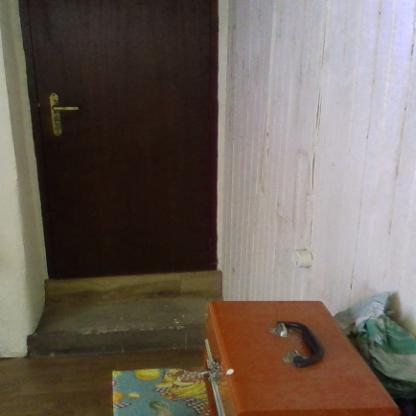door: (17, 0, 216, 273)
lever: (53, 106, 81, 112)
